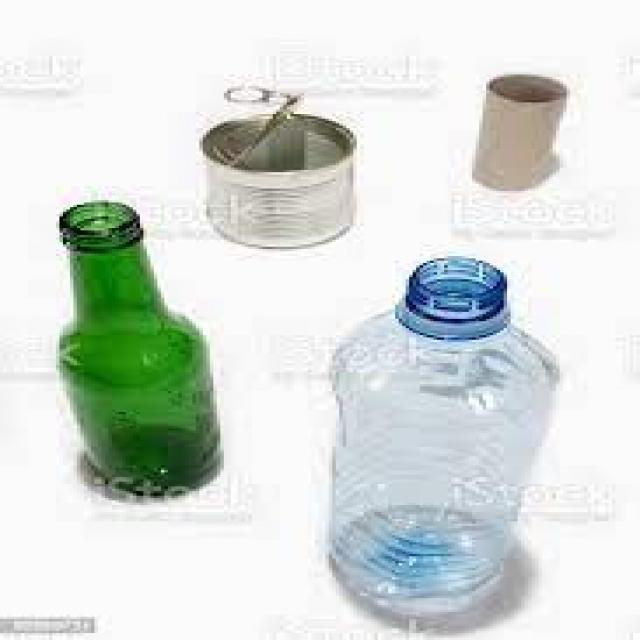metal: (196, 80, 362, 252)
paper: (468, 72, 572, 194)
plastic: (324, 253, 564, 624)
